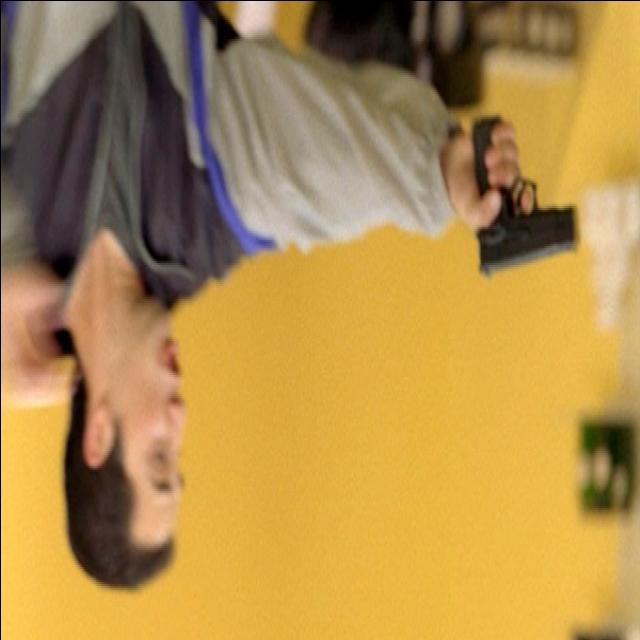weapons: (458, 96, 584, 290)
